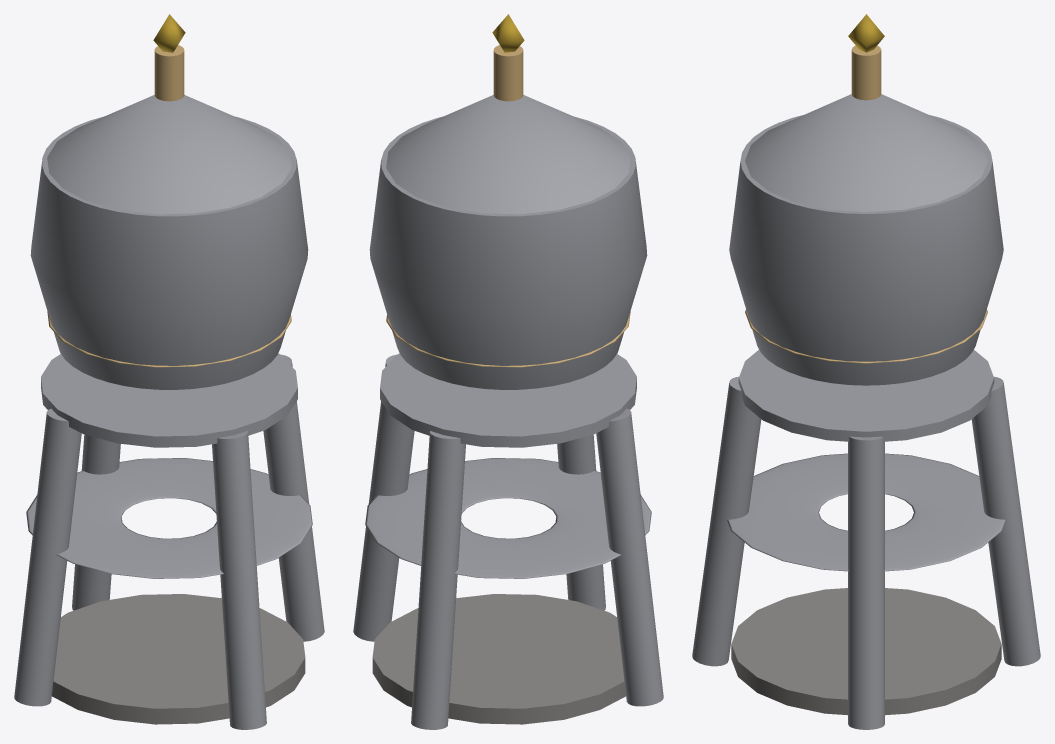
The model's file is water_tower.fbx.
3 views of the same model, side by side, from view 1: azimuth 30°, elevation 25°; view 2: azimuth 150°, elevation 25°; view 3: azimuth 270°, elevation 25° (orthographic).
Visible parts, largest first — view 1: tank, footing, tankRoof, brace, platform, leg_3, leg_2, leg, leg_1, vent, beacon, band_base; view 2: tank, footing, tankRoof, brace, platform, leg_1, leg_2, leg, leg_3, vent, beacon, band_base; view 3: tank, footing, tankRoof, brace, platform, leg, leg_1, leg_3, vent, beacon, band_base.
Part boxes in pixels (bbox=[...]): tank: bbox=[30, 116, 308, 389]; footing: bbox=[52, 594, 305, 724]; tankRoof: bbox=[47, 95, 291, 214]; brace: bbox=[26, 458, 312, 578]; platform: bbox=[41, 353, 297, 447]; leg_3: bbox=[212, 431, 266, 729]; leg_2: bbox=[14, 408, 81, 706]; leg: bbox=[263, 354, 324, 641]; leg_1: bbox=[72, 434, 120, 610]; vent: bbox=[154, 45, 184, 101]; beacon: bbox=[153, 14, 185, 52]; band_base: bbox=[47, 311, 291, 367]; tank: bbox=[369, 116, 647, 389]; footing: bbox=[372, 594, 625, 724]; tankRoof: bbox=[386, 95, 630, 214]; brace: bbox=[365, 458, 651, 578]; platform: bbox=[380, 353, 636, 447]; leg_1: bbox=[411, 431, 465, 729]; leg_2: bbox=[596, 408, 663, 706]; leg: bbox=[353, 354, 414, 641]; leg_3: bbox=[557, 434, 605, 610]; vent: bbox=[493, 45, 523, 101]; beacon: bbox=[492, 14, 524, 52]; band_base: bbox=[386, 311, 630, 367]; tank: bbox=[729, 115, 1003, 385]; footing: bbox=[731, 588, 1001, 715]; tankRoof: bbox=[745, 94, 987, 212]; brace: bbox=[727, 453, 1005, 571]; platform: bbox=[738, 349, 994, 441]; leg: bbox=[848, 436, 884, 729]; leg_1: bbox=[971, 376, 1040, 666]; leg_3: bbox=[692, 376, 761, 666]; vent: bbox=[851, 45, 881, 100]; beacon: bbox=[848, 14, 884, 52]; band_base: bbox=[745, 309, 987, 363].
Bounding box in the file's own units: 14.2 × 29.05 × 14.2.
